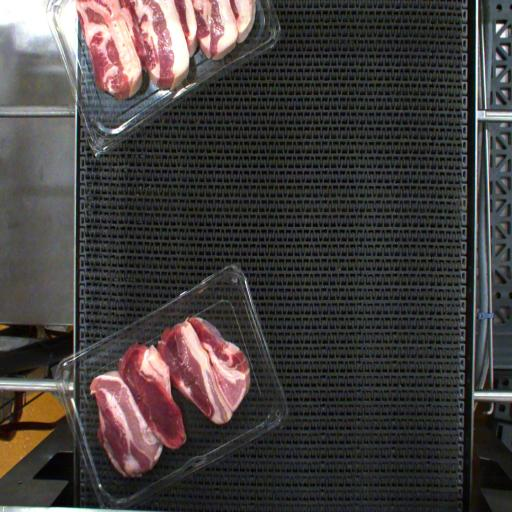loose-meat: (170, 331, 254, 421)
